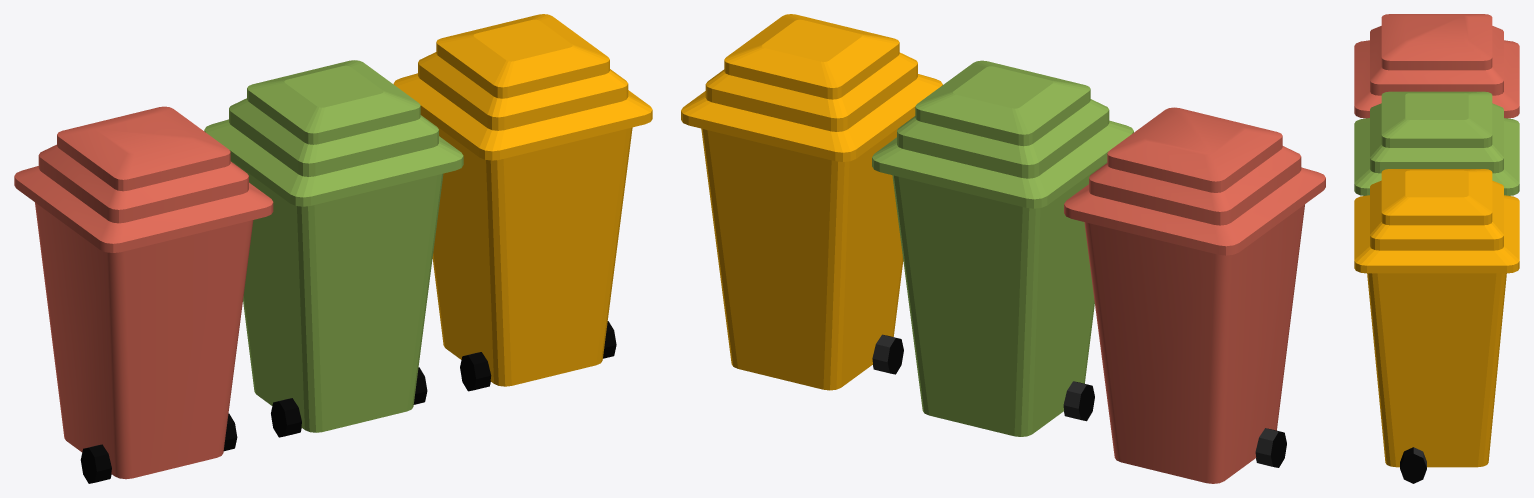
Rendered from Tongsampah 3.fbx.
The picture shows the model from 3 angles, left to right: view 1: azimuth 30°, elevation 25°; view 2: azimuth 150°, elevation 25°; view 3: azimuth 270°, elevation 25°; orthographic projection. The views are drawn at different scales.
Visible parts, largest first — view 1: Cube; view 2: Cube; view 3: Cube.
Part boxes in pixels (<box>): Cube: <box>14,14,652,483</box>; Cube: <box>681,14,1325,483</box>; Cube: <box>1354,14,1519,483</box>.
Bounding box in the file's own units: 636 × 357 × 198.
